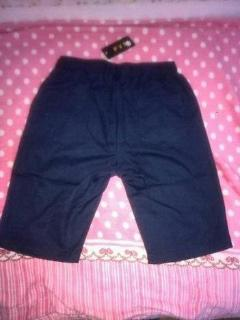shorts: (0, 56, 233, 264)
